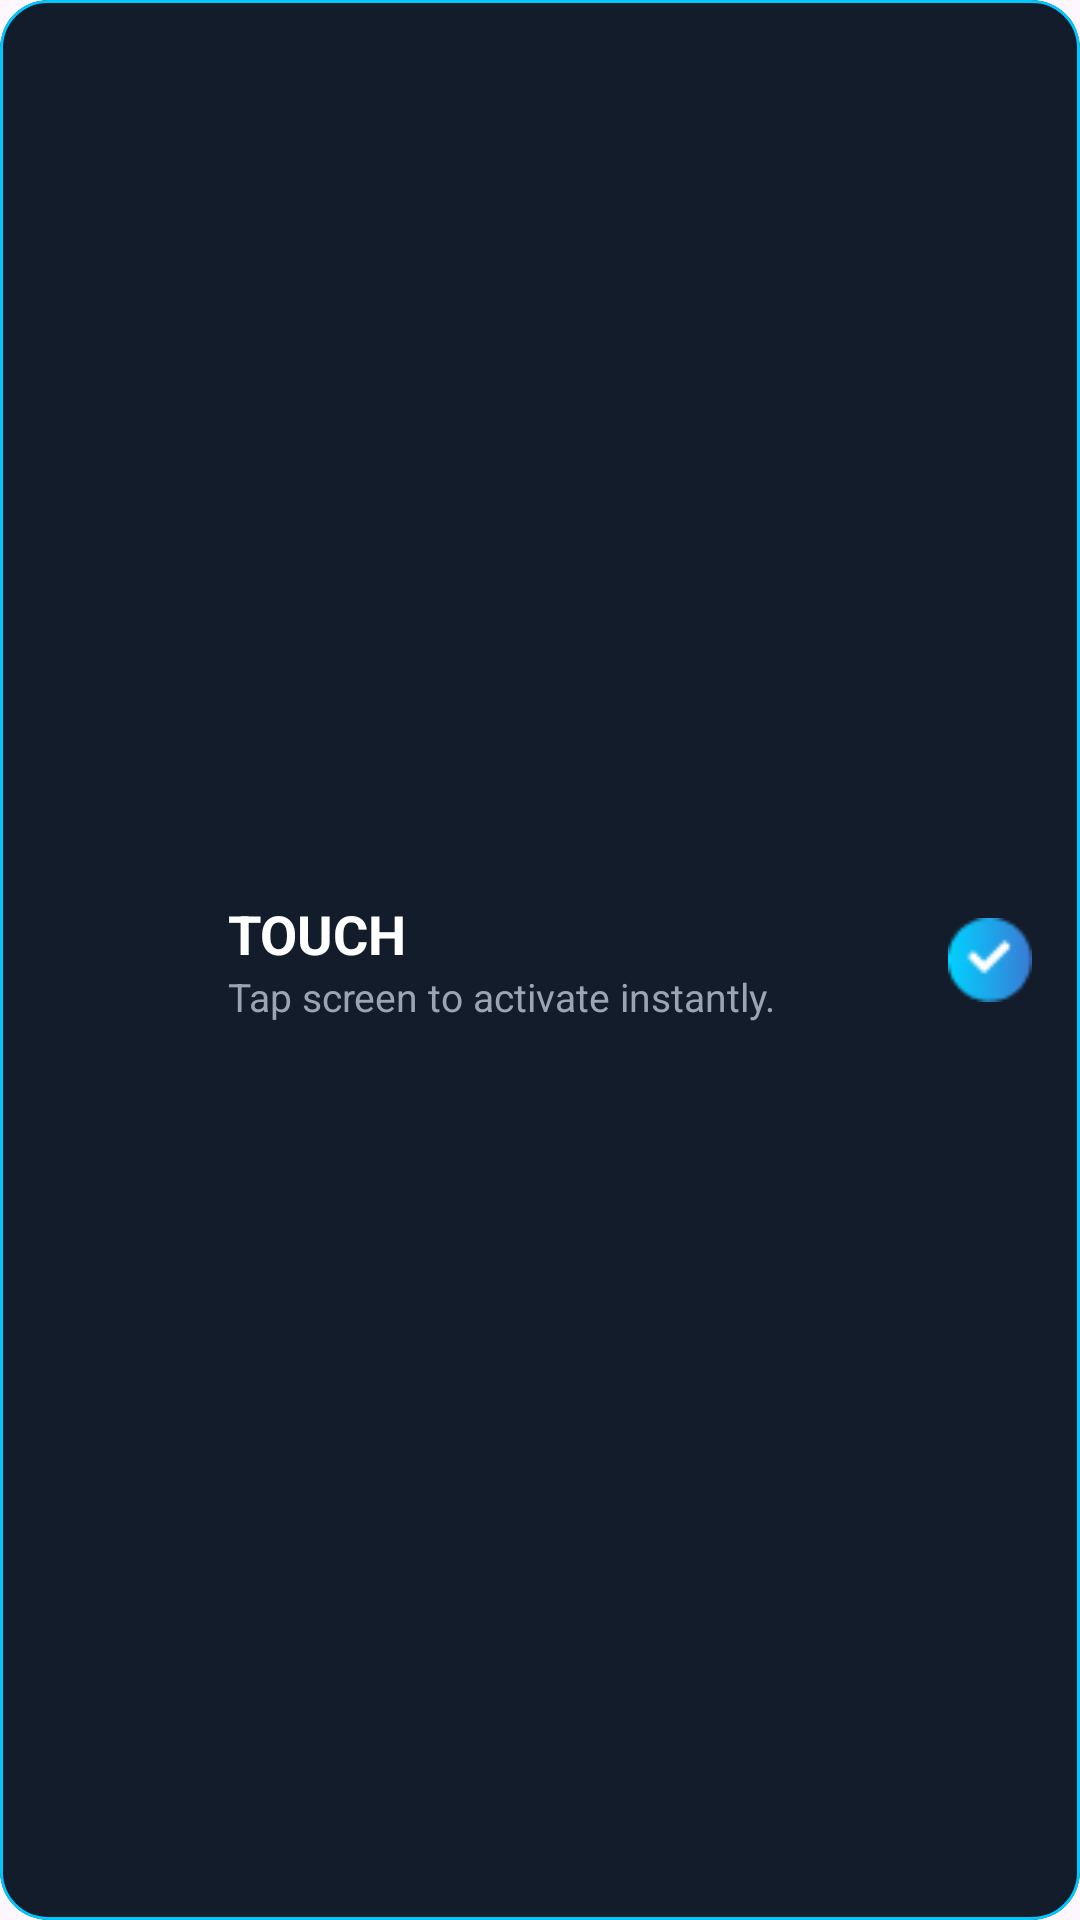

Screen size 1080x1920. Icon name, then its box in pixels as box=[x1, y1, x2, y2]:
check circle: box=[948, 918, 1032, 1002]
